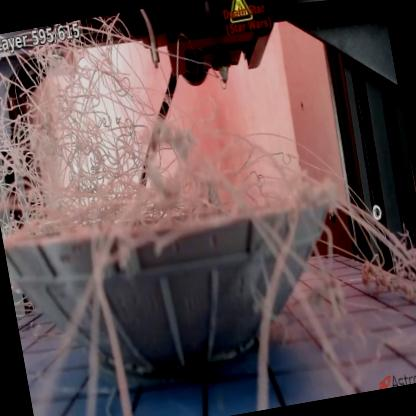fail: (1, 41, 168, 236), (343, 235, 416, 323)
